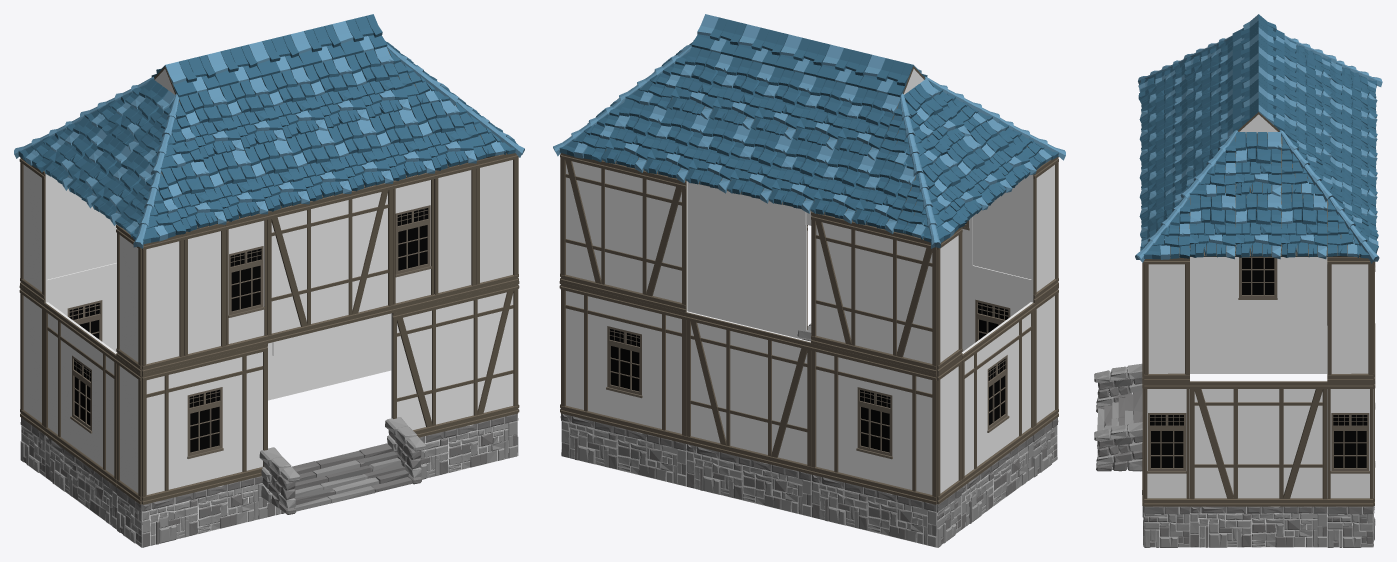
File: House_13_parts.glb
3 views of the same model, side by side, from view 1: azimuth 30°, elevation 25°; view 2: azimuth 150°, elevation 25°; view 3: azimuth 270°, elevation 25° (orthographic). The views are drawn at different scales.
Parts seen in each view (by area): view 1: WALL_02_7, WINDOW_03_2, WALL_02_2, WINDOW_03_3, STAIRS_02_2, WALL_03_10, WALL_03_9, WALL_03_12, WALL_03_11, WINDOW_04_5, WINDOW_04_6, FOUNDATION_02_26 (+39 smaller); view 2: WALL_02_4, WALL_02_6, WALL_02_5, WINDOW_03_5, WINDOW_03_4, WALL_02_2, WINDOW_03_3, FOUNDATION_02_29, FOUNDATION_02_30, FOUNDATION_02_28, WINDOW_03_2, WALL_03_6 (+36 smaller); view 3: WALL_02_3, WINDOW_03_3, WALL_03_8, WINDOW_04_4, FOUNDATION_02_31, WINDOW_04_3, WALL_03_7, FOUNDATION_02_27, STAIRS_02_2, ROOF_base_33, ROOF_base_17, ROOF_base_34 (+48 smaller).
Boxes of the visible parts, box(x1,y1,x2,y2) form: WALL_02_7: box(267, 183, 393, 343); WINDOW_03_2: box(142, 343, 267, 504); WALL_02_2: box(391, 282, 518, 437); WINDOW_03_3: box(43, 302, 117, 486); STAIRS_02_2: box(259, 417, 425, 514); WALL_03_10: box(434, 163, 476, 302); WALL_03_9: box(476, 153, 518, 292); WALL_03_12: box(142, 234, 184, 373); WALL_03_11: box(184, 224, 226, 363); WINDOW_04_5: box(225, 213, 267, 353); WINDOW_04_6: box(392, 173, 434, 312); FOUNDATION_02_26: box(142, 476, 267, 547); WALL_02_4: box(685, 311, 811, 474); WALL_02_6: box(560, 153, 687, 312); WALL_02_5: box(811, 212, 936, 373); WINDOW_03_5: box(560, 282, 686, 443); WINDOW_03_4: box(811, 343, 936, 504); WALL_02_2: box(687, 196, 807, 339); WINDOW_03_3: box(961, 302, 1034, 486); FOUNDATION_02_29: box(686, 444, 811, 517); FOUNDATION_02_30: box(561, 413, 686, 486); FOUNDATION_02_28: box(812, 474, 937, 547); WINDOW_03_2: box(961, 263, 1031, 352); WALL_03_6: box(1031, 156, 1058, 302); WALL_02_3: box(1190, 380, 1327, 506); WINDOW_03_3: box(1190, 257, 1327, 332); WALL_03_8: box(1327, 257, 1373, 382); WINDOW_04_4: box(1327, 382, 1373, 506); FOUNDATION_02_31: box(1190, 506, 1327, 547); WINDOW_04_3: box(1144, 382, 1189, 506); WALL_03_7: box(1144, 257, 1189, 382); FOUNDATION_02_27: box(1190, 333, 1327, 373); STAIRS_02_2: box(1094, 363, 1142, 471); ROOF_base_33: box(1235, 193, 1281, 259); ROOF_base_17: box(1281, 193, 1327, 259); ROOF_base_34: box(1235, 132, 1281, 196).
Bounding box in the file's own units: 9.41 × 9.59 × 6.29.
1 material, 1 textured.
